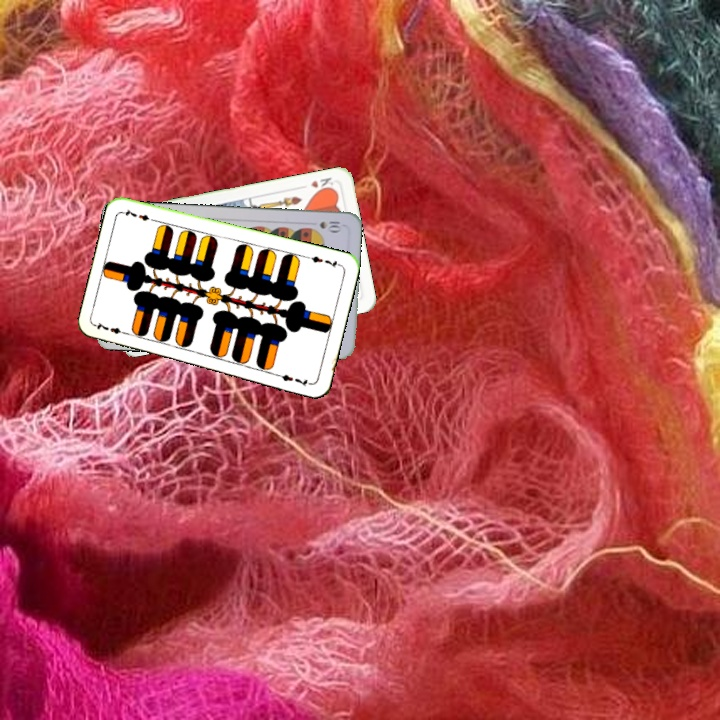E7: (303, 252, 343, 271), (92, 319, 132, 338)
HK: (306, 173, 336, 194)
S10: (316, 217, 344, 233)
